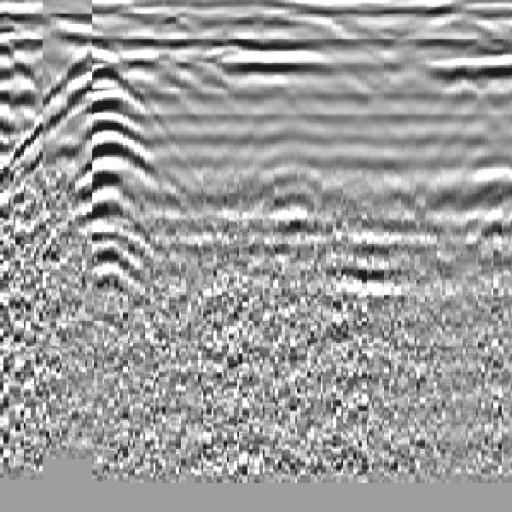metalic: (2, 55, 190, 314)
